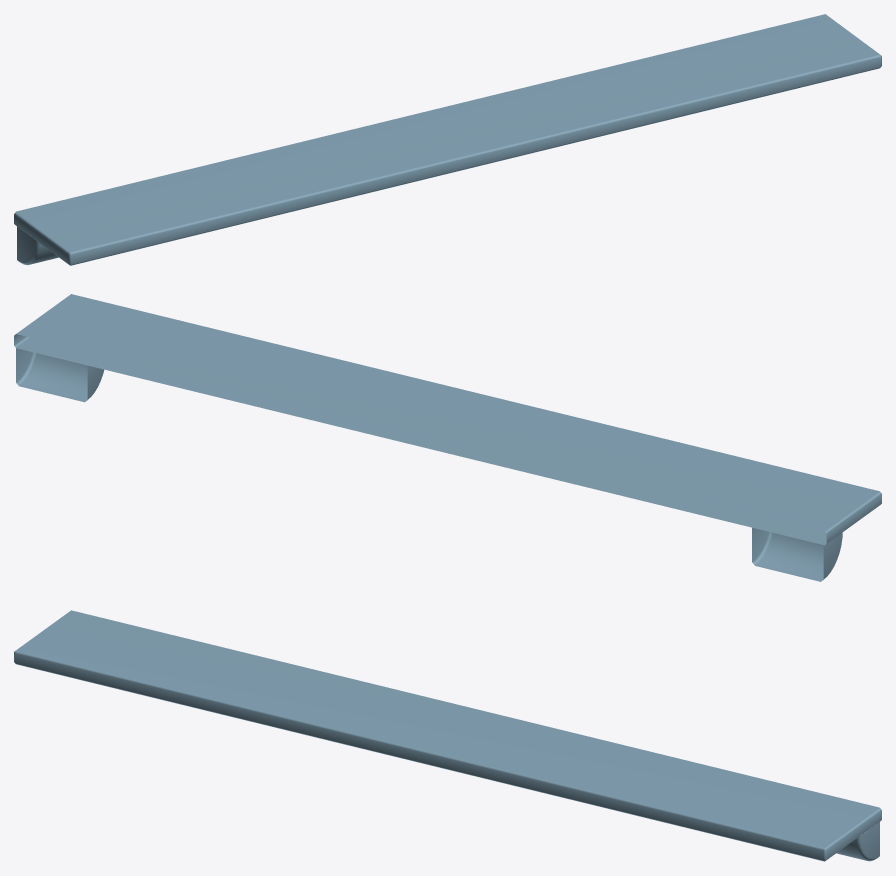
File: Shelf_4.glb
The picture shows the model from 3 angles, top to bottom: view 1: azimuth 30°, elevation 25°; view 2: azimuth 150°, elevation 25°; view 3: azimuth 330°, elevation 25°; orthographic projection.
Parts seen in each view (by area): view 1: Shelf_4; view 2: Shelf_4; view 3: Shelf_4.
Boxes of the visible parts, x1=… form: Shelf_4: x1=14, y1=14, x2=881, y2=265; Shelf_4: x1=14, y1=294, x2=881, y2=581; Shelf_4: x1=14, y1=610, x2=881, y2=861.
Size of the model in its own units: 2.85 by 0.1724 by 0.3395.
1 material, 1 textured.
